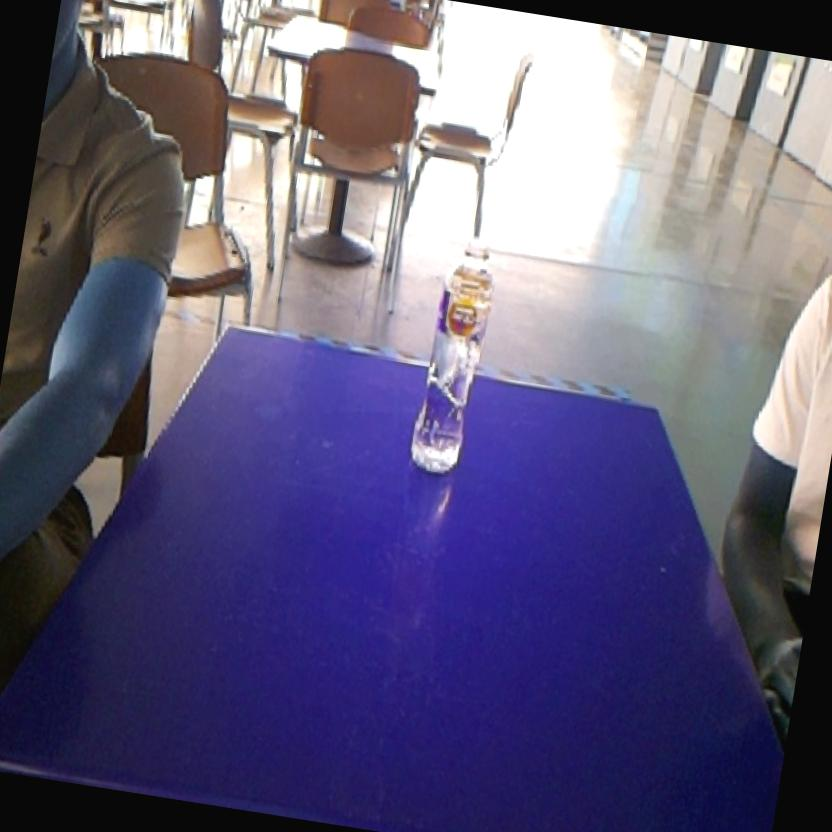no_cap: (400, 226, 512, 486)
